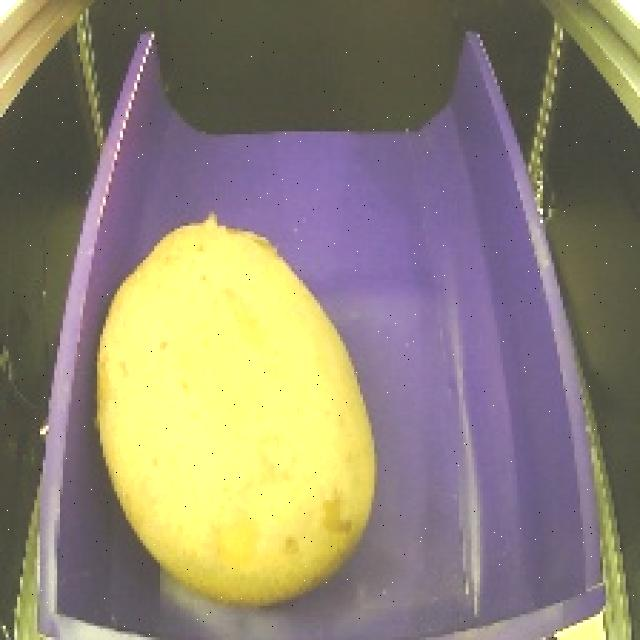full_potato: (85, 200, 392, 613)
